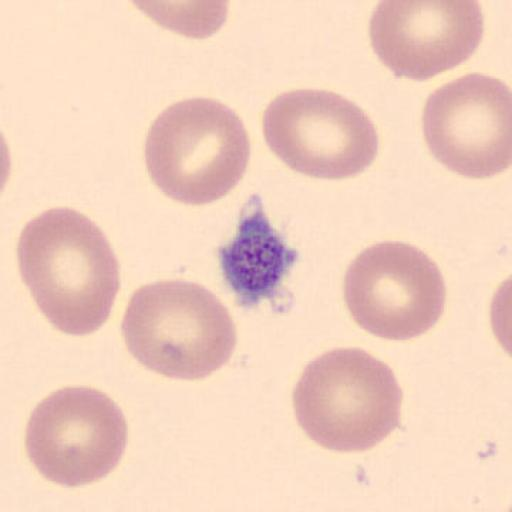Platelet: (217, 207, 302, 311)
RBC: (14, 203, 122, 340), (119, 276, 239, 383), (290, 345, 405, 455), (142, 94, 252, 208), (260, 85, 380, 183), (22, 384, 130, 490), (341, 238, 448, 344), (420, 70, 512, 184), (367, 0, 486, 83), (121, 0, 232, 41), (488, 271, 512, 364), (0, 123, 14, 201)
